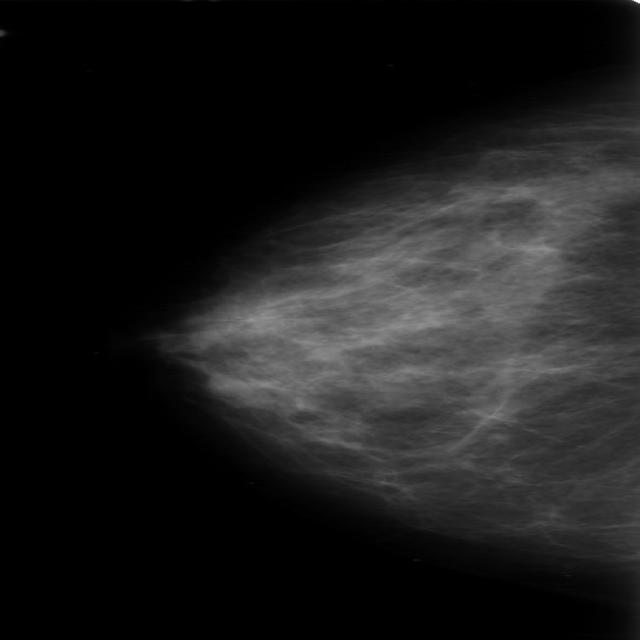tumour: (202, 373, 275, 408)
